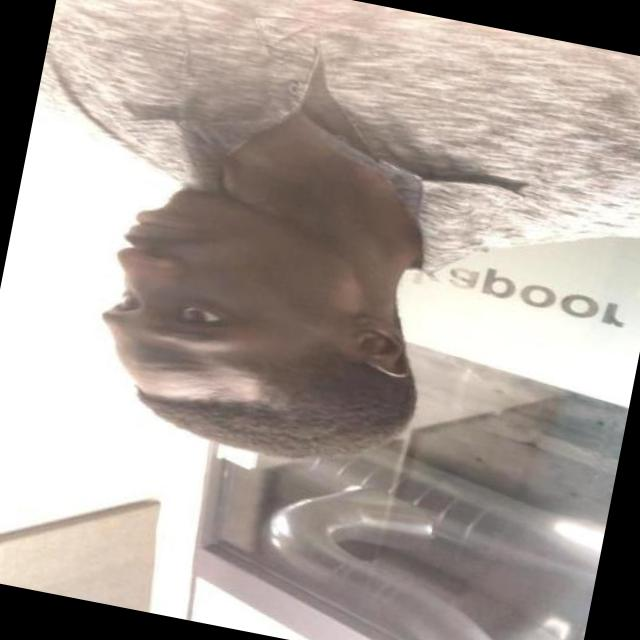bareface: (44, 147, 439, 520)
